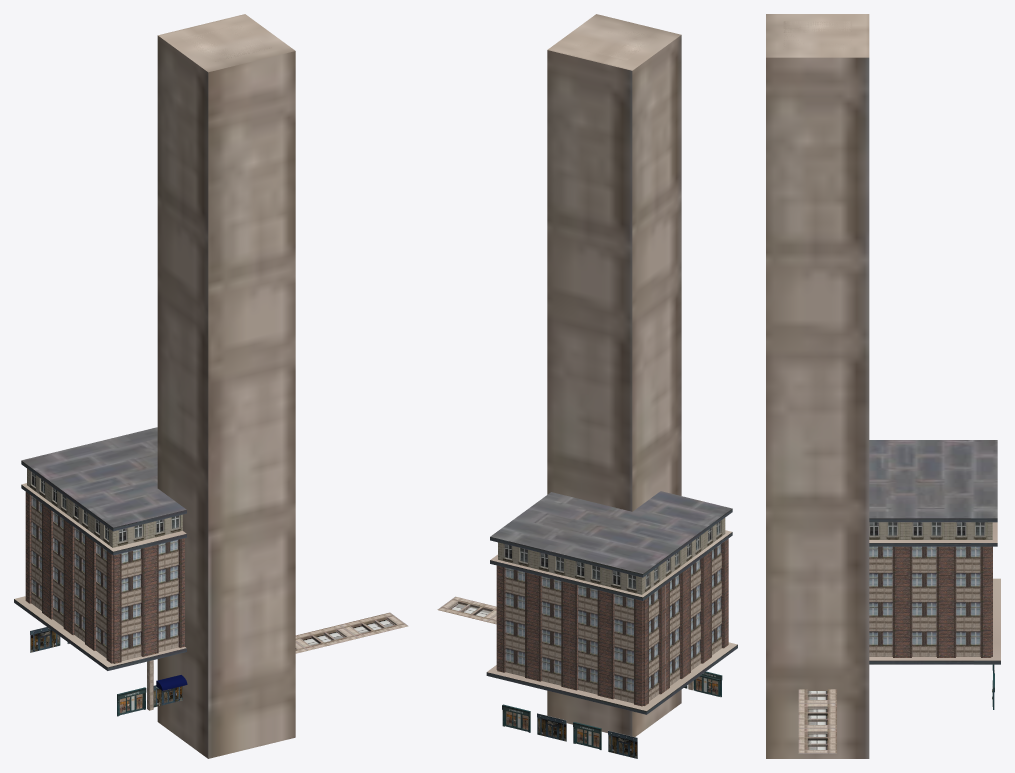
Rendered from game_ready_city_building.glb.
3 renders of one model, left to right at view 1: azimuth 30°, elevation 25°; view 2: azimuth 150°, elevation 25°; view 3: azimuth 270°, elevation 25°, orthographic. The views are drawn at different scales.
Parts seen in each view (by area): view 1: Object_9, Object_4, Object_59, Object_8, Object_11; view 2: Object_9, Object_4, Object_59, Object_8, Object_11; view 3: Object_9, Object_4, Object_59, Object_8, Object_11.
Boxes of the visible parts, x1,y1,x2,y2 form: Object_9: [157, 14, 295, 758]; Object_4: [14, 427, 187, 716]; Object_59: [157, 37, 295, 388]; Object_8: [295, 612, 408, 653]; Object_11: [182, 24, 271, 61]; Object_9: [547, 14, 681, 736]; Object_4: [486, 491, 737, 758]; Object_59: [547, 35, 681, 380]; Object_8: [437, 596, 496, 624]; Object_11: [573, 32, 655, 60]; Object_9: [766, 14, 869, 758]; Object_4: [869, 440, 1000, 709]; Object_59: [766, 57, 869, 382]; Object_8: [798, 689, 836, 753]; Object_11: [783, 21, 851, 49].
Bounding box in the file's own units: 4.53 × 10.05 × 3.05.
Materials: 1 (1 with a texture image).
